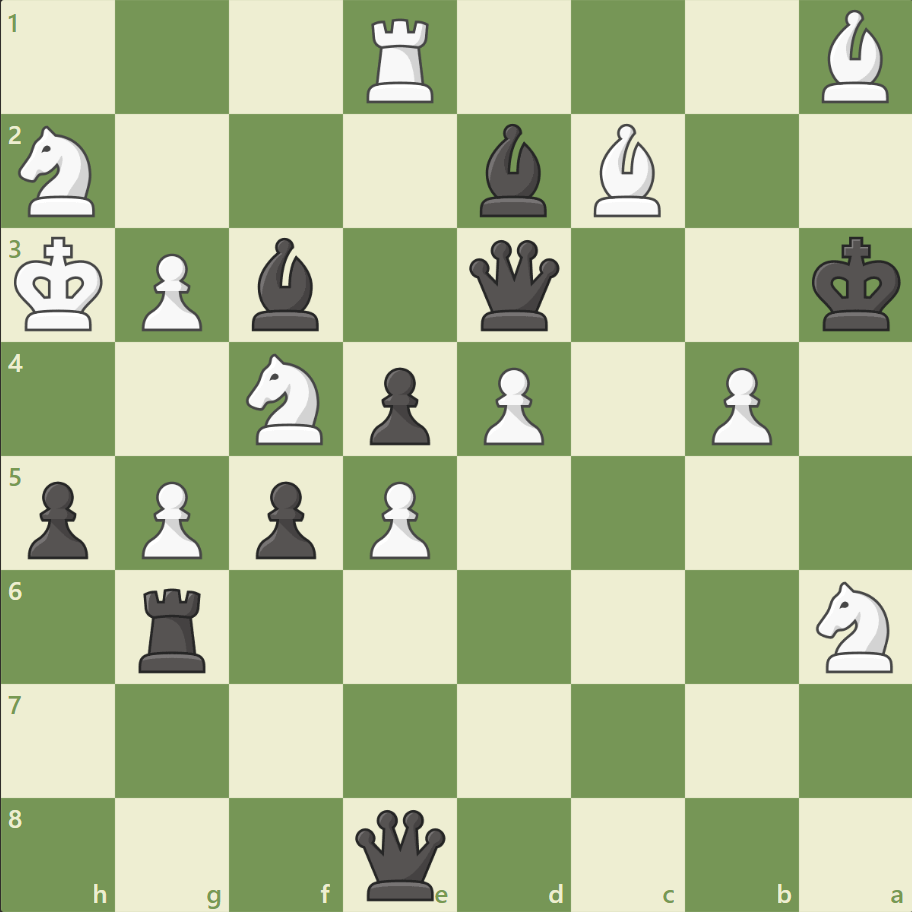B: (812, 6, 896, 109), (585, 120, 669, 222)
K: (11, 231, 111, 339)
N: (806, 575, 903, 677), (238, 348, 335, 450), (11, 121, 108, 223)
P: (133, 473, 208, 564), (701, 359, 776, 450), (474, 359, 549, 450), (133, 246, 208, 337), (361, 473, 435, 564)
R: (360, 12, 442, 109)
b: (244, 233, 328, 336), (471, 120, 555, 222)
k: (806, 231, 906, 339)
p: (247, 473, 322, 564), (20, 473, 95, 564), (361, 359, 435, 450)
q: (351, 804, 450, 903), (464, 236, 563, 335)
r: (133, 579, 215, 676)
